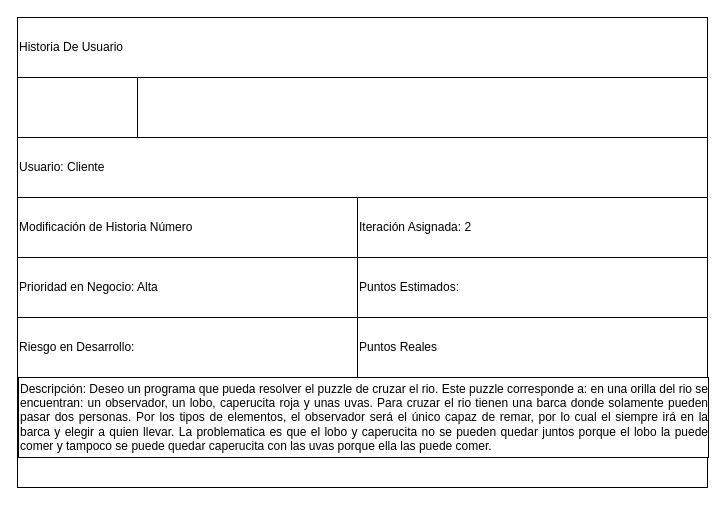
The diagram is 726 pixels wide and 505 high, and some of its shapes have lost their labels. Each missing label, with the centre of its shape:
Nombre: Resolución del problema de cruzar el río.: the point at 422,107
Número 001: the point at 77,107
Observaciones:: the point at 362,472
